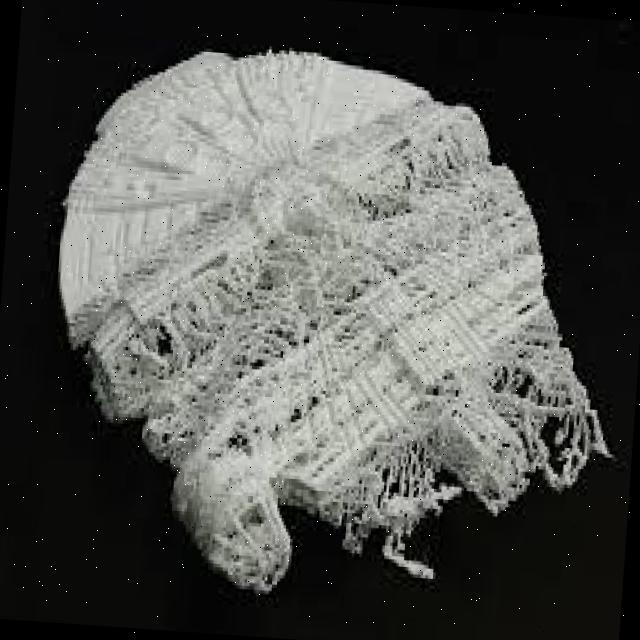spaghetti: (135, 180, 618, 630)
